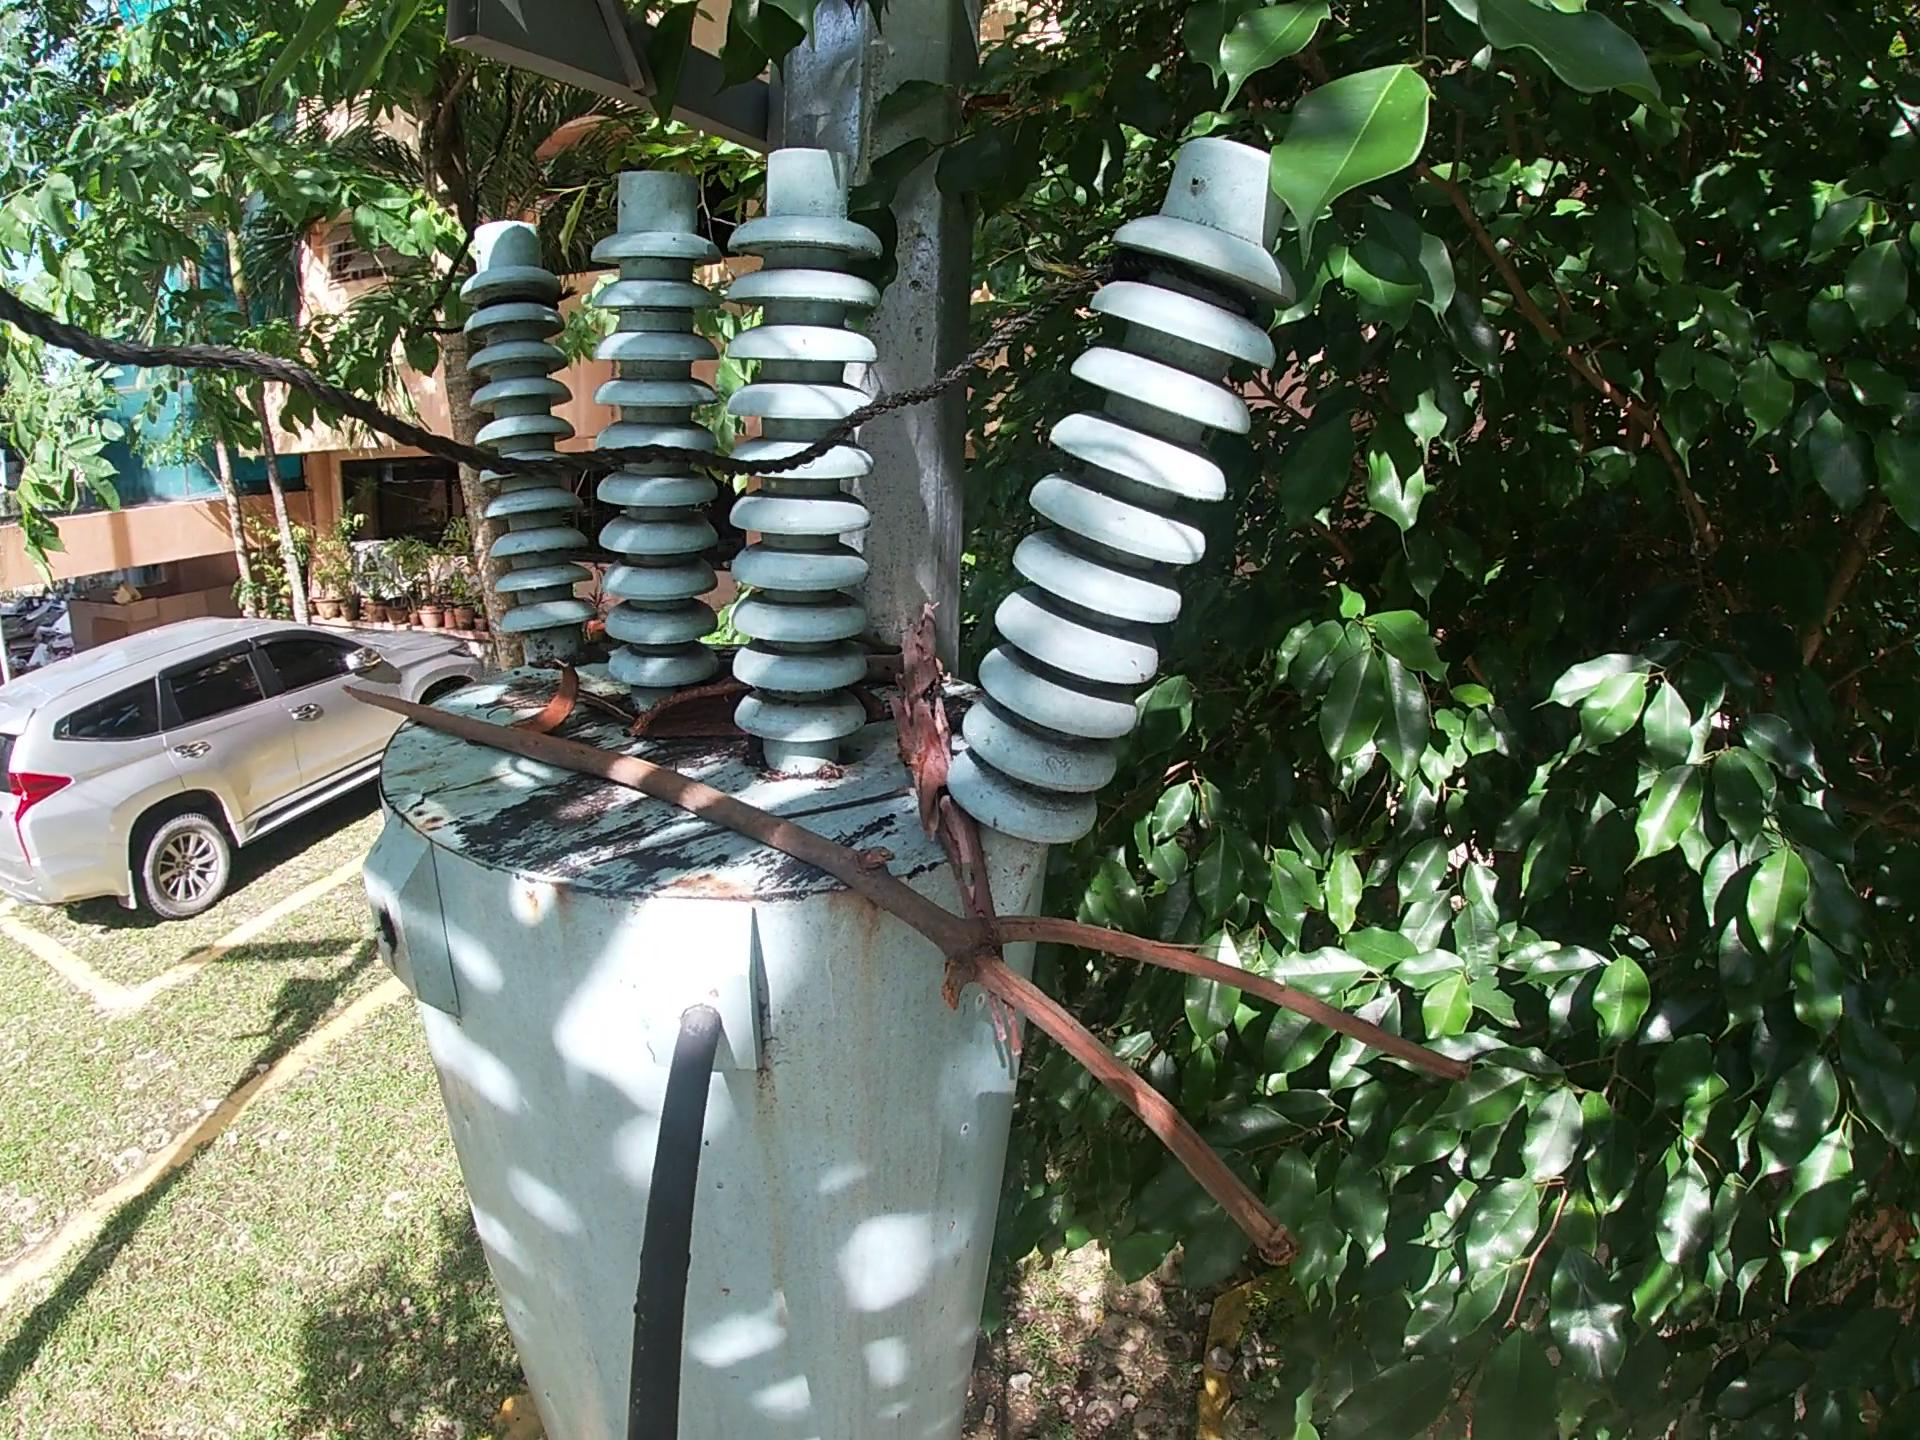mahogany fruit: (615, 679, 893, 753), (503, 653, 585, 740)
tree branch: (330, 669, 1479, 1277), (884, 601, 1030, 1069), (859, 652, 948, 688)
